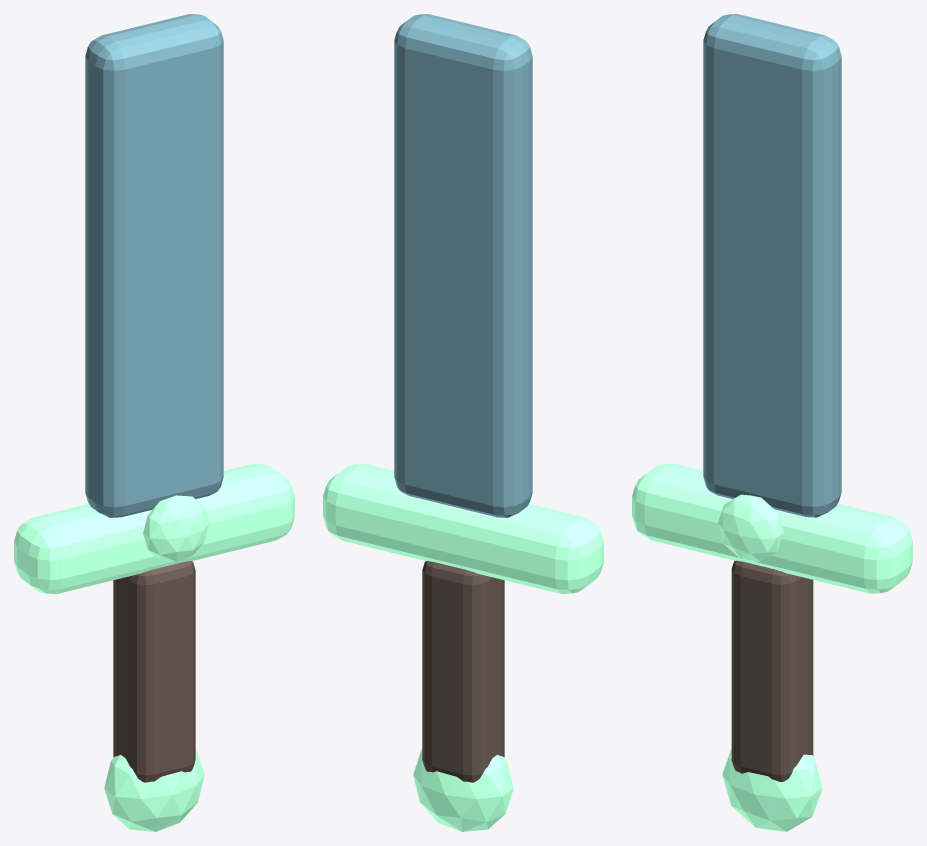
File: clover-blade.glb
3 views of the same model, side by side, from view 1: azimuth 30°, elevation 25°; view 2: azimuth 150°, elevation 25°; view 3: azimuth 330°, elevation 25° (orthographic).
Parts seen in each view (by area): view 1: WeaponBlade, WeaponGrip, WeaponGuard, WeaponPommel, WeaponGem; view 2: WeaponBlade, WeaponGuard, WeaponGrip, WeaponPommel; view 3: WeaponBlade, WeaponGrip, WeaponGuard, WeaponPommel, WeaponGem.
Boxes of the visible parts, x1=… form: WeaponBlade: x1=85, y1=14, x2=223, y2=517; WeaponGrip: x1=113, y1=561, x2=195, y2=782; WeaponGuard: x1=14, y1=464, x2=294, y2=593; WeaponPommel: x1=104, y1=749, x2=204, y2=831; WeaponGem: x1=143, y1=495, x2=209, y2=561; WeaponBlade: x1=394, y1=14, x2=532, y2=517; WeaponGuard: x1=323, y1=464, x2=603, y2=593; WeaponGrip: x1=422, y1=561, x2=504, y2=782; WeaponPommel: x1=413, y1=749, x2=513, y2=831; WeaponBlade: x1=703, y1=14, x2=841, y2=517; WeaponGrip: x1=731, y1=560, x2=813, y2=781; WeaponGuard: x1=632, y1=463, x2=912, y2=593; WeaponPommel: x1=722, y1=748, x2=822, y2=831; WeaponGem: x1=717, y1=494, x2=783, y2=561.
Bounding box in the file's own units: 0.84 × 2.45 × 0.28.
